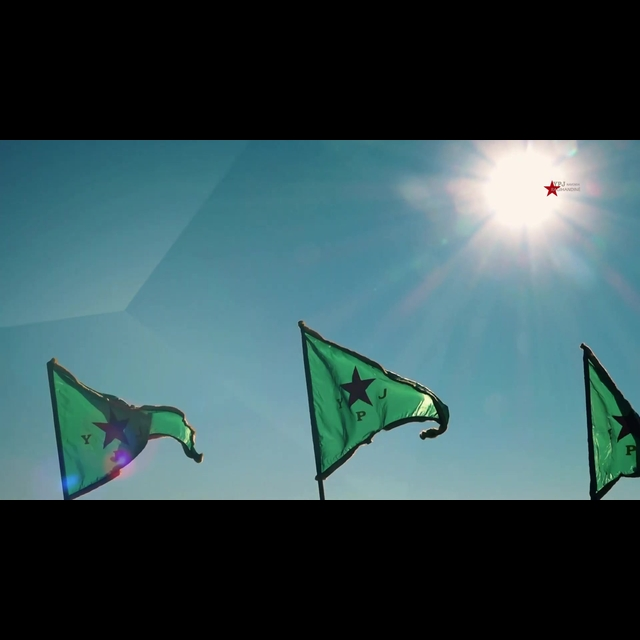YPJ: (306, 341, 457, 454), (61, 390, 212, 476)
